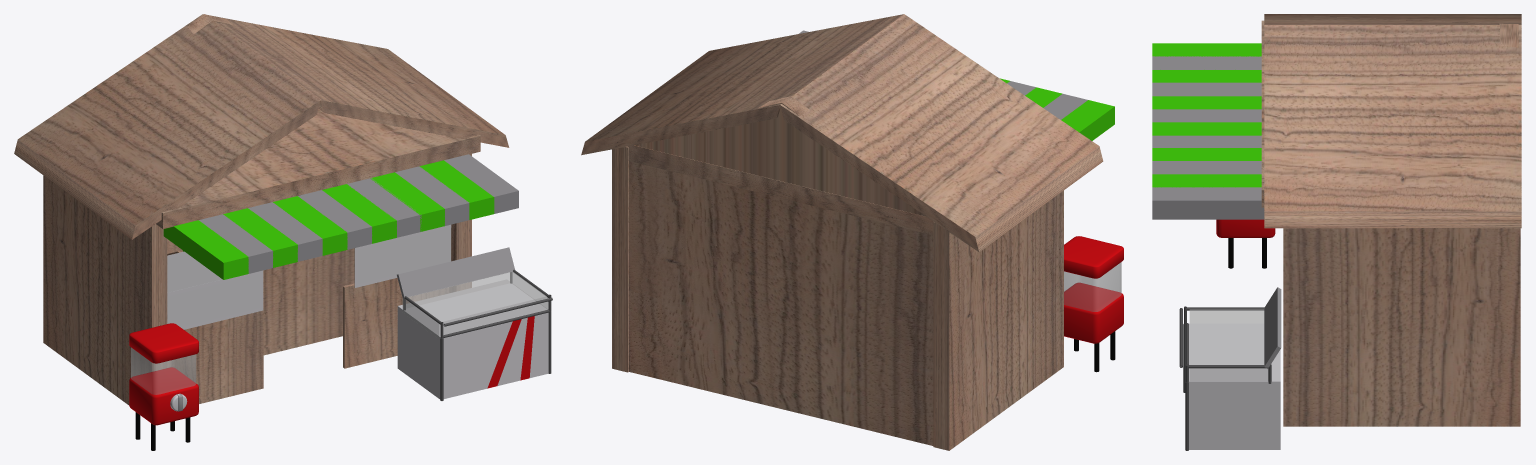
Rendered from PopStore.fbx.
The picture shows the model from 3 angles, left to right: view 1: azimuth 30°, elevation 25°; view 2: azimuth 150°, elevation 25°; view 3: azimuth 270°, elevation 25°; orthographic projection. The views are drawn at different scales.
Visible parts, largest first — view 1: obj5, obj4, obj2, obj13, obj3, obj18, obj28, obj16, obj15, obj8, obj12, obj7 (+1 smaller); view 2: obj1, obj5, obj2, obj6, obj3, obj8, obj4, obj12, obj7; view 3: obj5, obj2, obj4, obj13, obj8, obj3, obj6.
Part boxes in pixels (x1,y1,x2,y2): obj5: (14, 14, 509, 239); obj4: (163, 154, 518, 279); obj2: (43, 154, 471, 405); obj13: (397, 247, 552, 400); obj3: (156, 109, 480, 228); obj18: (343, 224, 451, 368); obj28: (167, 248, 354, 355); obj16: (167, 307, 263, 403); obj15: (167, 271, 263, 329); obj8: (129, 367, 198, 425); obj12: (131, 347, 196, 394); obj7: (129, 323, 198, 363); obj1: (629, 161, 933, 445); obj5: (581, 14, 1103, 252); obj2: (612, 146, 1063, 450); obj6: (629, 96, 932, 335); obj3: (627, 145, 933, 234); obj8: (1064, 282, 1123, 343); obj4: (799, 30, 1114, 140); obj12: (1064, 262, 1121, 311); obj7: (1064, 236, 1123, 278); obj5: (1264, 14, 1521, 228); obj2: (1283, 228, 1520, 426); obj4: (1152, 43, 1264, 219); obj13: (1179, 287, 1281, 450); obj8: (1216, 219, 1275, 237); obj3: (1261, 20, 1264, 207); obj6: (1499, 23, 1518, 47).
Bounding box in the file's own units: 379 × 278 × 289.
